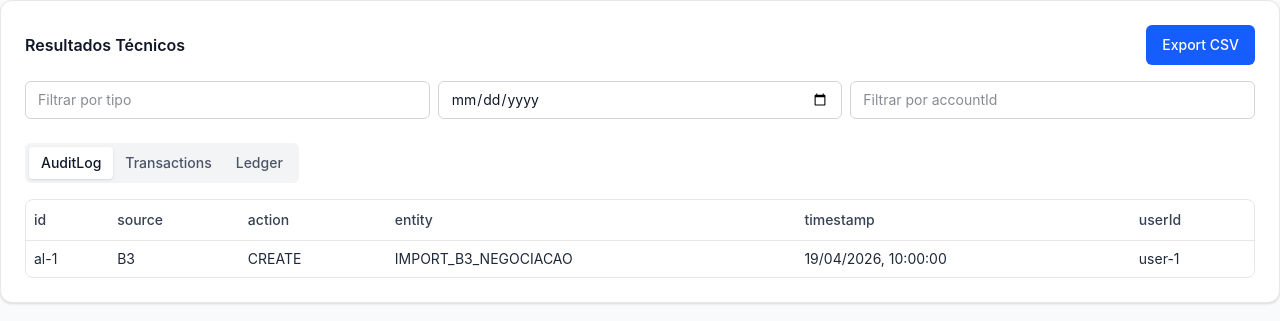
Scenario: ResultsTable › troca para Ledger e exibe dados
What coordinates should you click on to do the following:
click the tab "Ledger"
I would click on:
 (259, 163)
Its box is [224, 147, 295, 179].
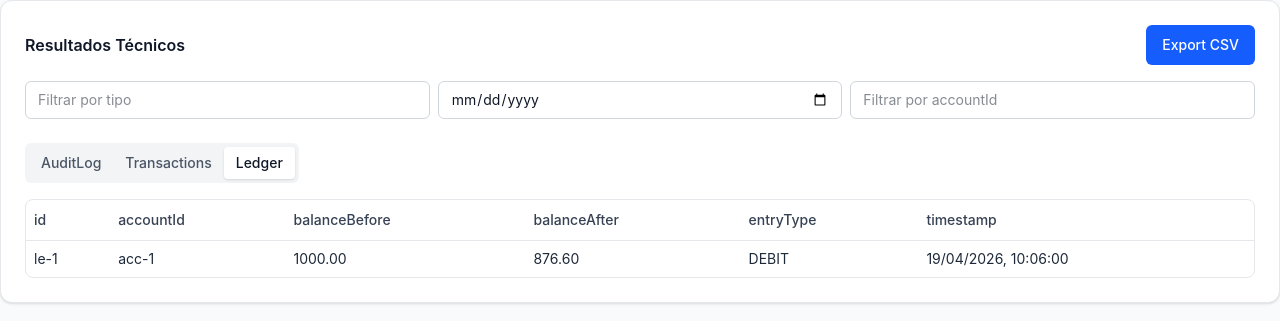
Now the text "876.60" is shown, box [526, 240, 741, 276]
